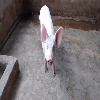heo: (38, 4, 63, 77)
